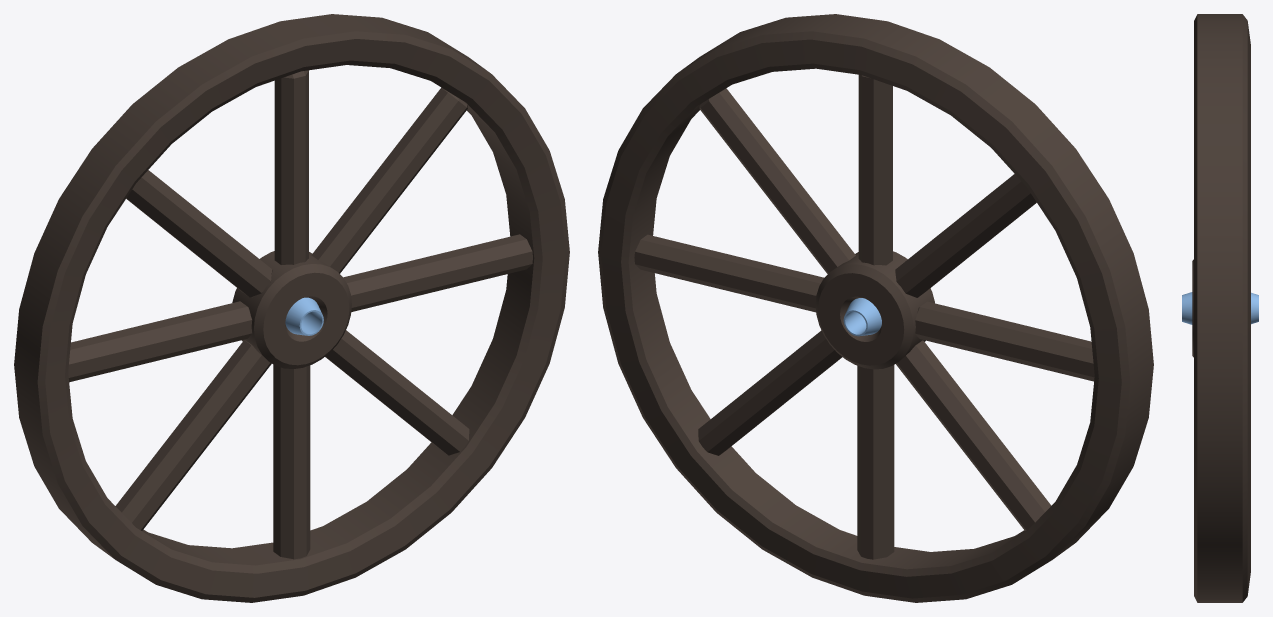
Rendered from wagonwheel.fbx.
3 views of the same model, side by side, from view 1: azimuth 30°, elevation 25°; view 2: azimuth 150°, elevation 25°; view 3: azimuth 270°, elevation 25° (orthographic). The views are drawn at different scales.
Parts seen in each view (by area): view 1: Circle.011; view 2: Circle.011; view 3: Circle.011.
Boxes of the visible parts, x1=… form: Circle.011: x1=14, y1=14, x2=569, y2=602; Circle.011: x1=598, y1=14, x2=1153, y2=602; Circle.011: x1=1182, y1=14, x2=1258, y2=602.
Bounding box in the file's own units: 2 × 2 × 0.2608.
